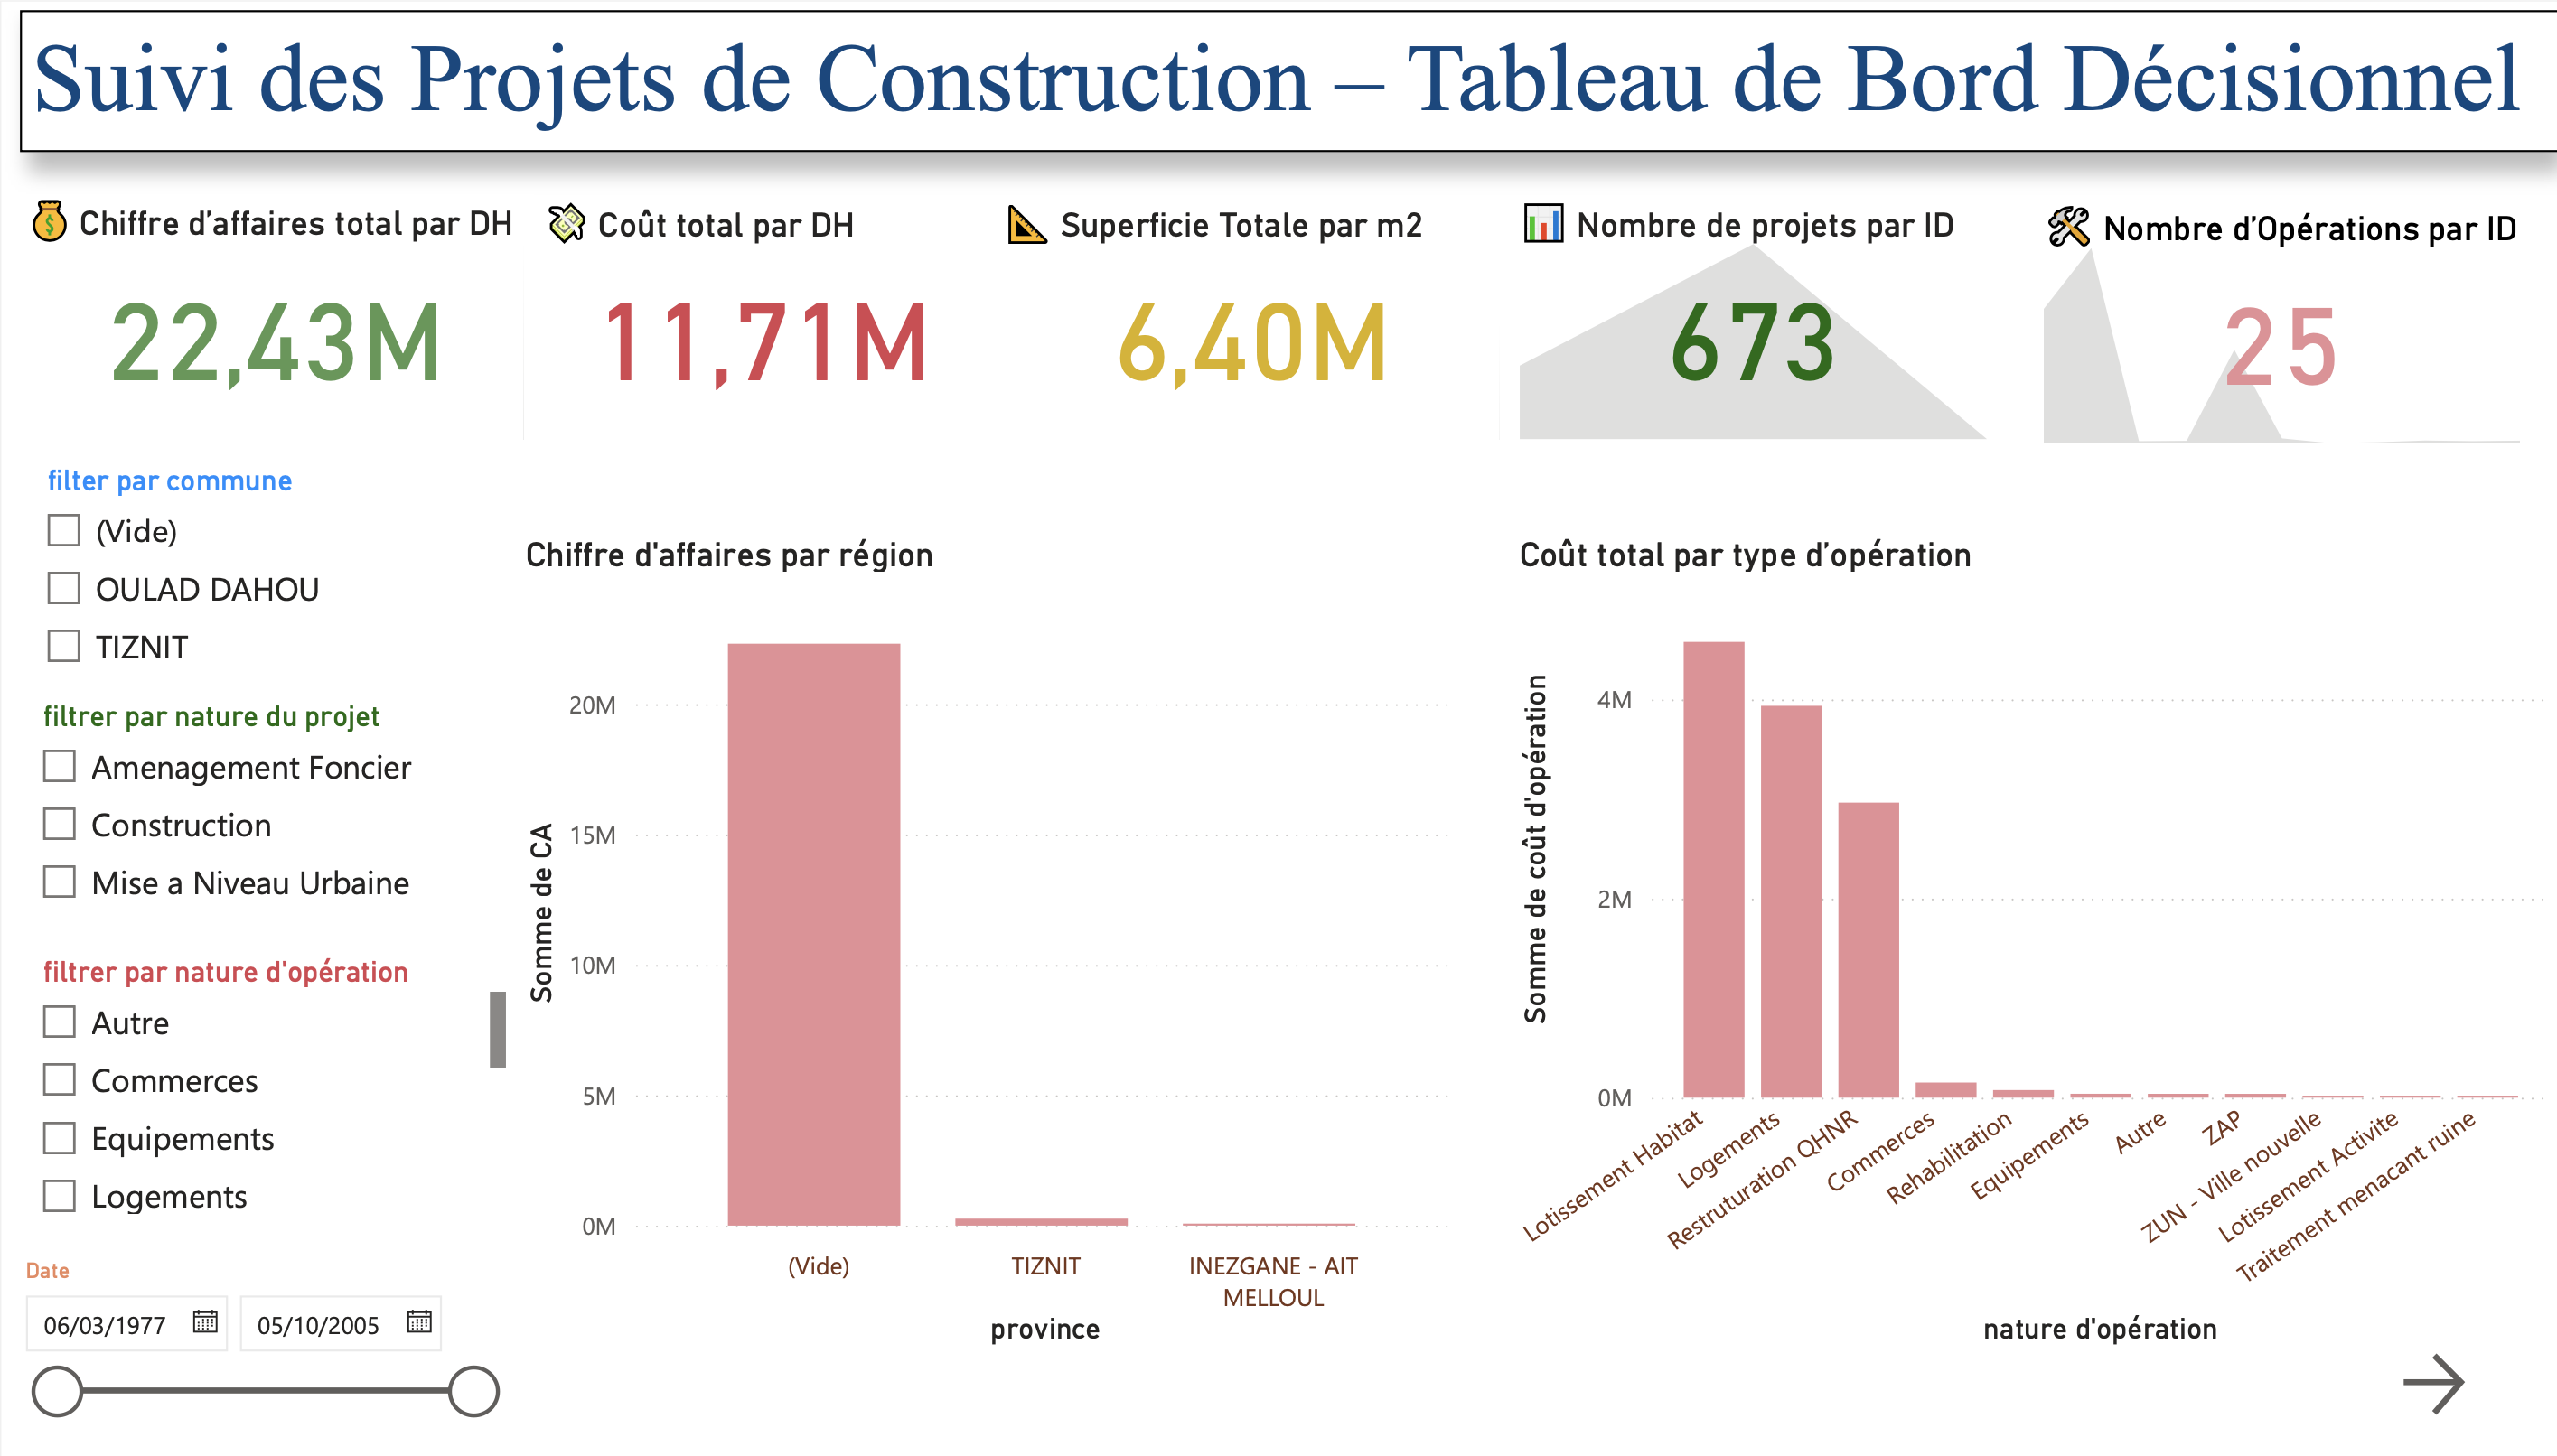

Layout of this report page (visuals, bound fields, positions):
{"tool":"powerbi","page":{"name":"Page 1","canvas":[1280,720],"ordinal":0},"visuals":[{"type":"textbox","box":[9.5,0,1270.5,71.3],"z":0},{"type":"kpi","fields":{"Indicator":["Sum(FactSuivi.CA)","select"],"TrendLine":["FactSuivi.CA"]},"box":[9.5,91.8,257.9,128.2],"z":1000},{"type":"kpi","fields":{"Indicator":["Sum(FactSuivi.coût_opération)"],"TrendLine":["FactSuivi.coût_opération"]},"box":[267.1,93.2,229.5,127.3],"z":2000},{"type":"kpi","fields":{"Indicator":["Sum(FactSuivi.superficie )"],"TrendLine":["FactSuivi.superficie "]},"box":[496.6,93.2,258.2,127.3],"z":3000},{"type":"kpi","fields":{"TrendLine":["FactSuivi.ID_Projet"],"Indicator":["CountNonNull(FactSuivi.ID_Projet)"]},"box":[754.7,93.3,243.7,126.6],"z":4000},{"type":"slicer","title":"Filtrer par commune","fields":{"Values":["DimRégion.commune"]},"box":[10.7,222,184.4,118.2],"z":5000},{"type":"slicer","fields":{"Values":["DimProjet.nature_projet"]},"box":[9,340.1,229.1,114.6],"z":6000},{"type":"slicer","fields":{"Values":["DimOpération.nature_opération"]},"box":[9,467.9,249.2,139.8],"z":7000},{"type":"slicer","fields":{"Values":["DimDate.Date"]},"box":[0,619.4,257.8,100.3],"z":8000},{"type":"columnChart","title":"Chiffre d''affaires par région","fields":{"Y":["Sum(FactSuivi.CA)"],"Category":["DimRégion.province"]},"box":[258.2,261.7,475.1,410.5],"z":9000},{"type":"clusteredColumnChart","title":" Coût total par type d’opération","fields":{"Category":["DimOpération.nature_opération"],"Y":["Sum(FactSuivi.coût_opération)"]},"box":[754.7,261.7,525.3,410.5],"z":10000},{"type":"actionButton","box":[1174.2,656.1,105.8,52],"z":11000},{"type":"kpi","fields":{"Indicator":["CountNonNull(FactSuivi.ID_Opération)"],"TrendLine":["FactSuivi.ID_Opération"]},"box":[1017.4,94.9,248.4,126.6],"z":11001}]}

Visuals, with their boxes in screenshot pixels (x1, y1, x2, y2), scaled from the page's 1280x720 canvas onto the 2557x1456 screenshot:
textbox: [19, 0, 2556, 145]
kpi - Sum(FactSuivi.CA) x select: [19, 186, 534, 445]
kpi - Sum(FactSuivi.coût_opération) x FactSuivi.coût_opération: [534, 189, 992, 446]
kpi - Sum(FactSuivi.superficie ) x FactSuivi.superficie : [992, 189, 1508, 446]
kpi - FactSuivi.ID_Projet x CountNonNull(FactSuivi.ID_Projet): [1508, 189, 1994, 444]
"Filtrer par commune" slicer: [22, 449, 389, 688]
slicer - DimProjet.nature_projet: [18, 687, 475, 919]
slicer - DimOpération.nature_opération: [18, 947, 516, 1229]
slicer - DimDate.Date: [0, 1253, 515, 1455]
"Chiffre d''affaires par région" columnChart: [516, 529, 1465, 1359]
" Coût total par type d’opération" clusteredColumnChart: [1508, 529, 2556, 1359]
actionButton: [2346, 1327, 2556, 1432]
kpi - CountNonNull(FactSuivi.ID_Opération) x FactSuivi.ID_Opération: [2032, 191, 2529, 448]
